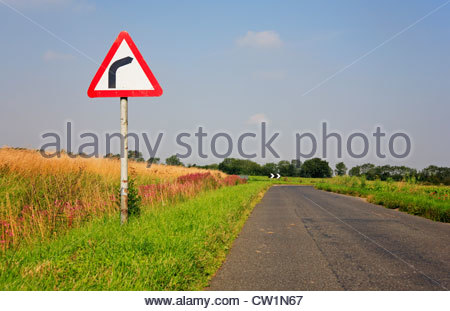Bend_to_right: (84, 28, 164, 100)
